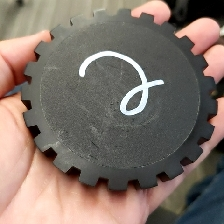gear: (19, 6, 219, 192)
